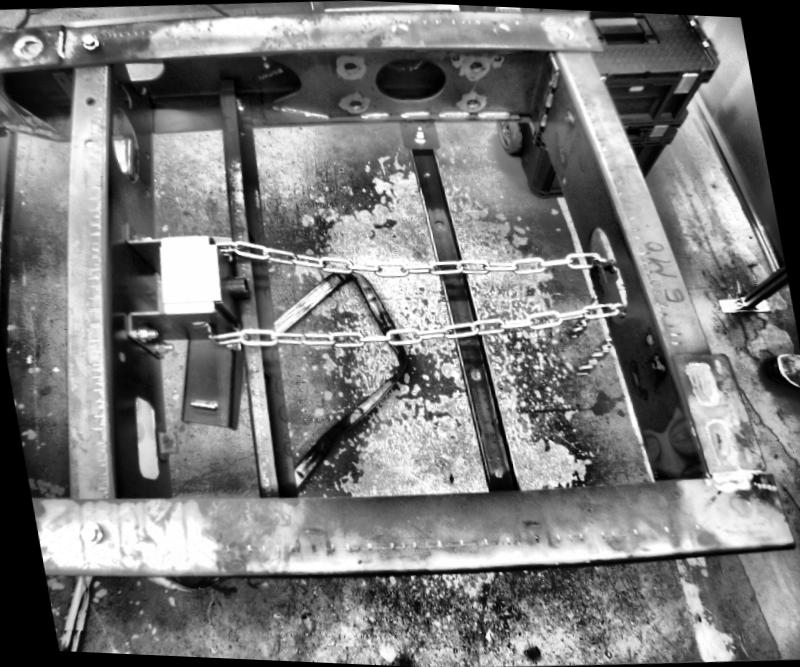bolt: (74, 26, 104, 54), (133, 323, 159, 342), (648, 353, 668, 374), (228, 93, 250, 110), (152, 337, 174, 353), (411, 120, 425, 142), (132, 228, 152, 243), (564, 110, 576, 126)
bracket: (585, 251, 613, 301), (152, 426, 180, 460)
hole: (366, 51, 451, 105), (125, 385, 162, 485), (108, 105, 142, 190), (114, 50, 172, 84), (338, 56, 360, 73), (348, 96, 364, 111), (467, 60, 484, 74), (468, 365, 482, 380), (464, 94, 480, 107), (432, 216, 445, 230), (116, 346, 128, 361), (492, 466, 505, 479), (80, 136, 94, 148), (642, 331, 656, 343), (83, 92, 95, 104), (421, 169, 431, 178), (162, 436, 172, 444)
welding: (533, 108, 549, 125), (547, 67, 561, 86), (540, 92, 556, 106)
